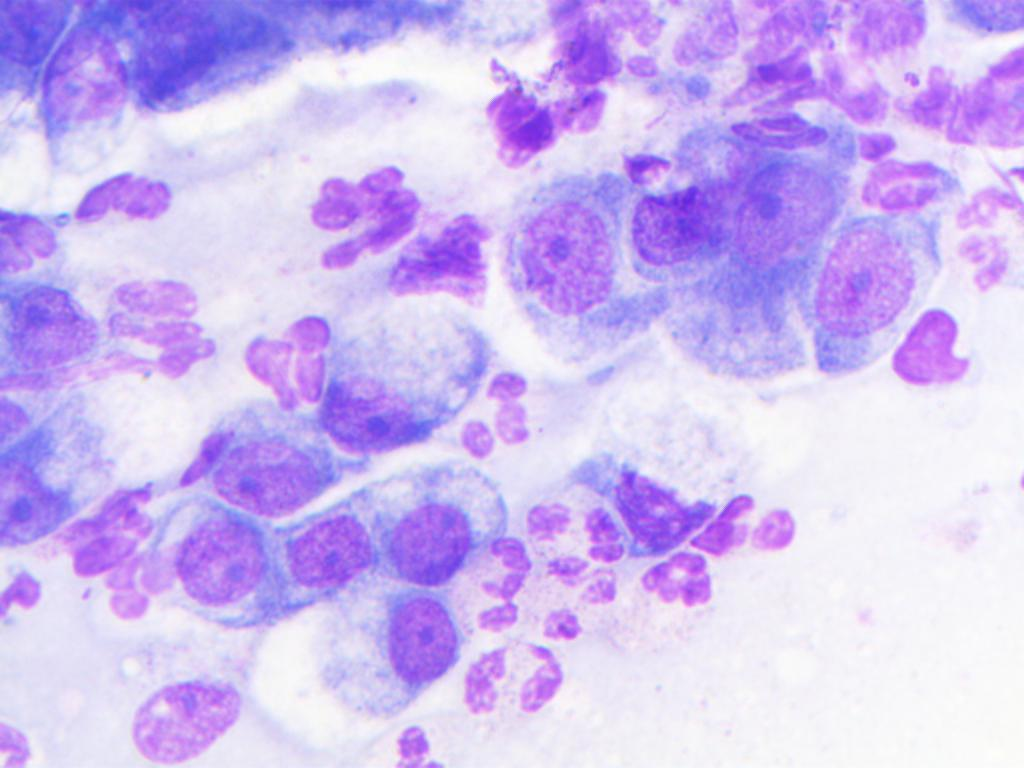artifact: (384, 209, 500, 303), (64, 173, 201, 234), (894, 303, 977, 394), (607, 470, 700, 551), (0, 203, 74, 279)
epithelial: (308, 583, 467, 723), (320, 320, 456, 456), (192, 398, 337, 515), (501, 196, 634, 318), (114, 659, 253, 767), (267, 478, 371, 622), (817, 204, 924, 333), (371, 477, 481, 588), (729, 158, 835, 261), (0, 282, 98, 372), (175, 515, 267, 610), (2, 438, 70, 549), (626, 189, 720, 262)
neutrophil: (458, 551, 629, 647), (103, 252, 221, 390), (305, 158, 425, 279), (510, 478, 637, 569), (241, 302, 332, 426), (69, 514, 175, 620), (436, 355, 539, 460), (953, 166, 1024, 308), (630, 539, 745, 616), (463, 637, 566, 716)
